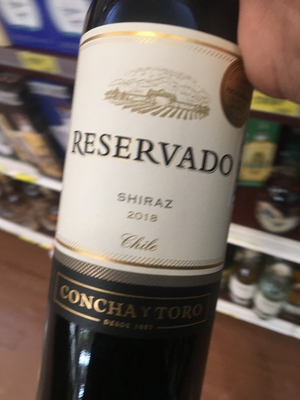reservado shiraz: (56, 5, 252, 400)
